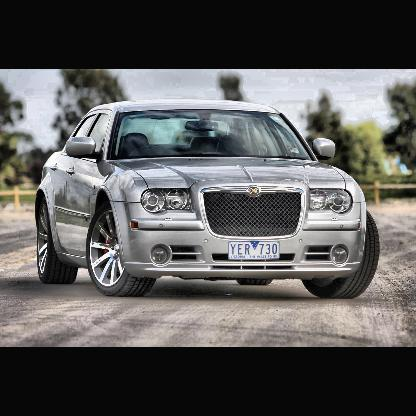Chrysler 300 SRT-8 2010: (36, 100, 383, 301)
